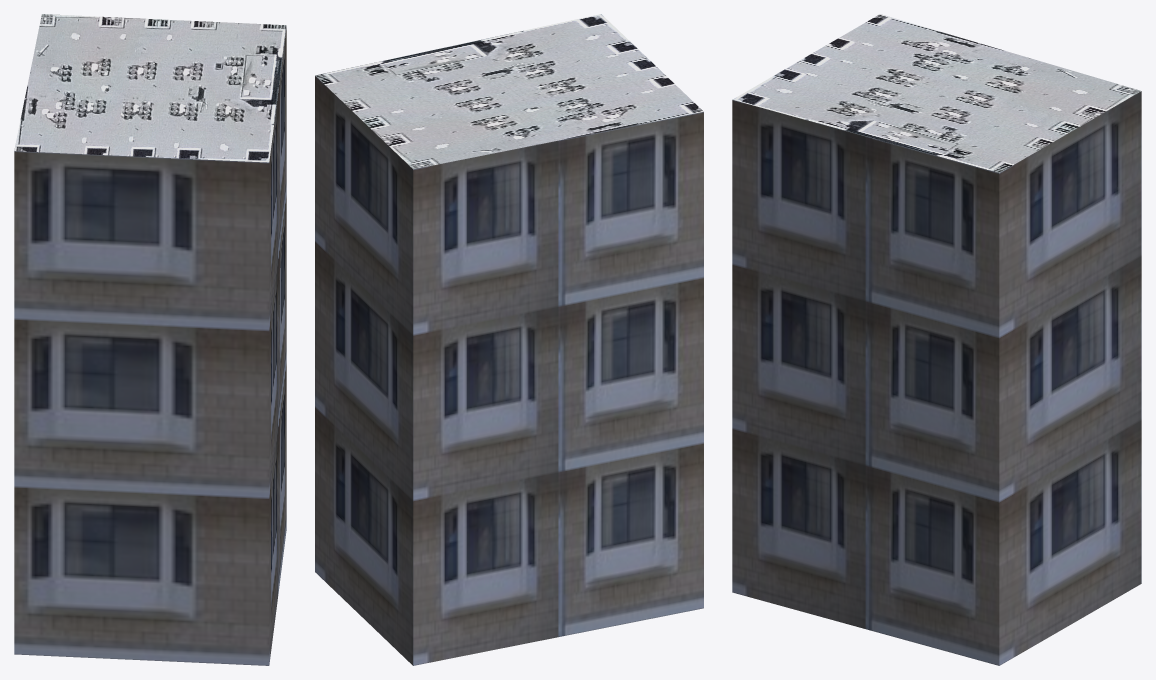
File: ResTex__4401.fbx
3 renders of one model, left to right at view 1: azimuth 30°, elevation 25°; view 2: azimuth 150°, elevation 25°; view 3: azimuth 270°, elevation 25°, orthographic. The views are drawn at different scales.
Parts seen in each view (by area): view 1: CityEngineMaterial_3_m, CityEngineMaterial_8_m; view 2: CityEngineMaterial_3_m, CityEngineMaterial_8_m; view 3: CityEngineMaterial_3_m, CityEngineMaterial_8_m.
Part boxes in pixels (x1=…): CityEngineMaterial_3_m: x1=14, y1=27, x2=286, y2=665; CityEngineMaterial_8_m: x1=14, y1=14, x2=286, y2=162; CityEngineMaterial_3_m: x1=315, y1=76, x2=703, y2=665; CityEngineMaterial_8_m: x1=315, y1=14, x2=703, y2=169; CityEngineMaterial_3_m: x1=732, y1=91, x2=1141, y2=665; CityEngineMaterial_8_m: x1=732, y1=14, x2=1140, y2=173.
Bounding box in the file's own units: 6.24 × 9 × 6.78.
2 materials, 2 textured.
